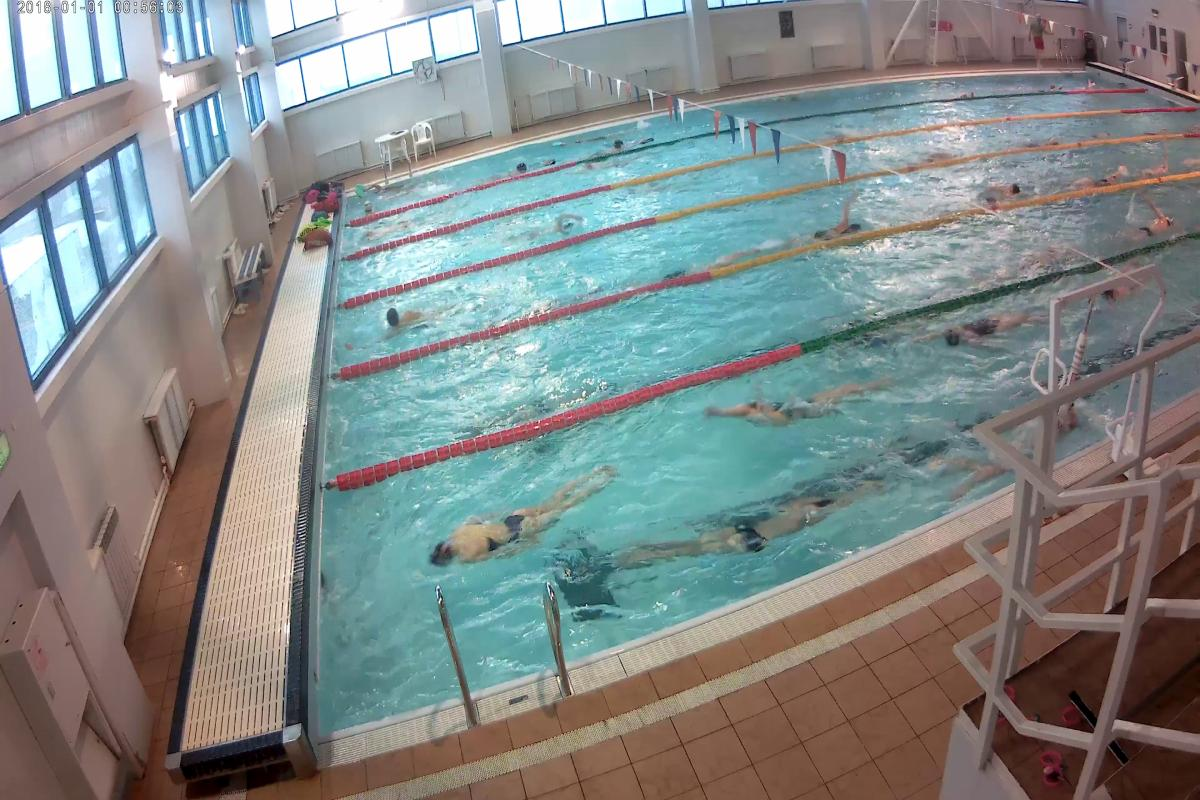swimmer: (433, 468, 610, 557), (650, 490, 846, 569), (703, 360, 904, 436), (911, 308, 1043, 342), (380, 300, 440, 339), (526, 206, 584, 238), (812, 204, 859, 239), (1128, 208, 1178, 237), (984, 175, 1024, 200)
